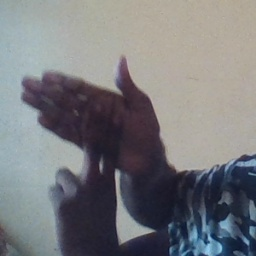N: (15, 50, 151, 217)
